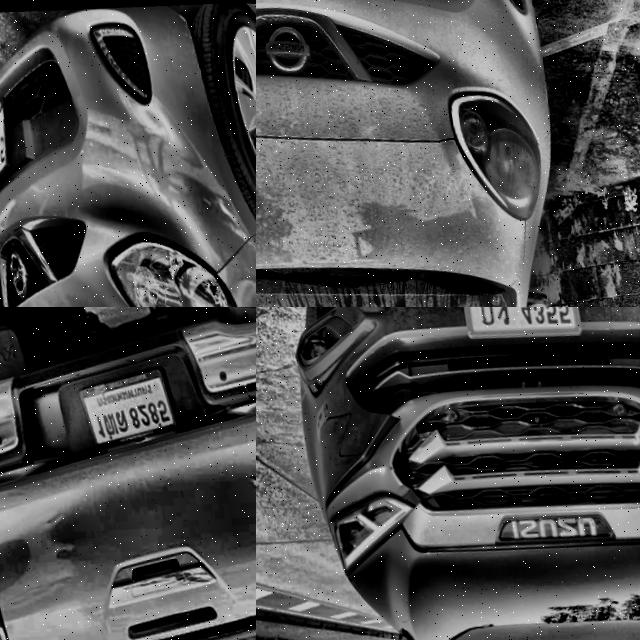license-plate: (76, 357, 178, 455), (451, 307, 585, 352), (0, 75, 21, 213)
